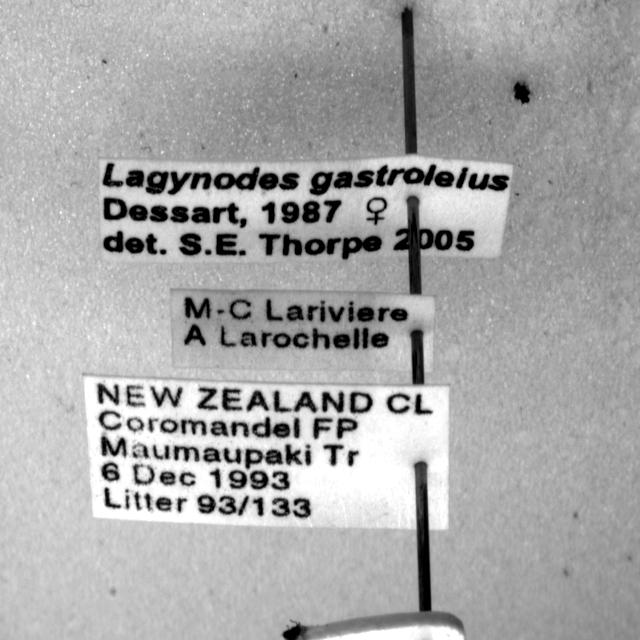typed_label: (84, 375, 449, 531), (100, 154, 512, 262), (171, 289, 435, 371)
